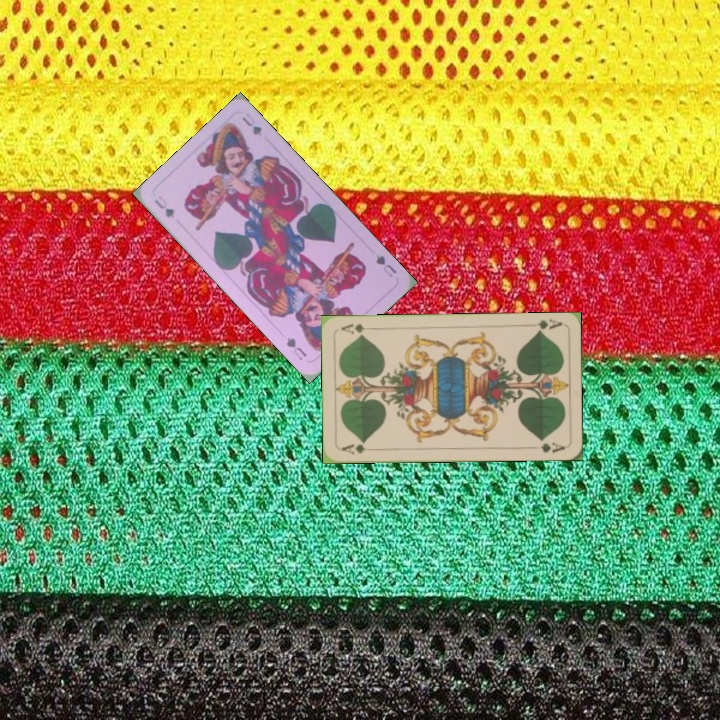GA: (533, 315, 565, 335), (338, 439, 368, 457)
GU: (371, 250, 400, 280), (150, 191, 177, 221)
